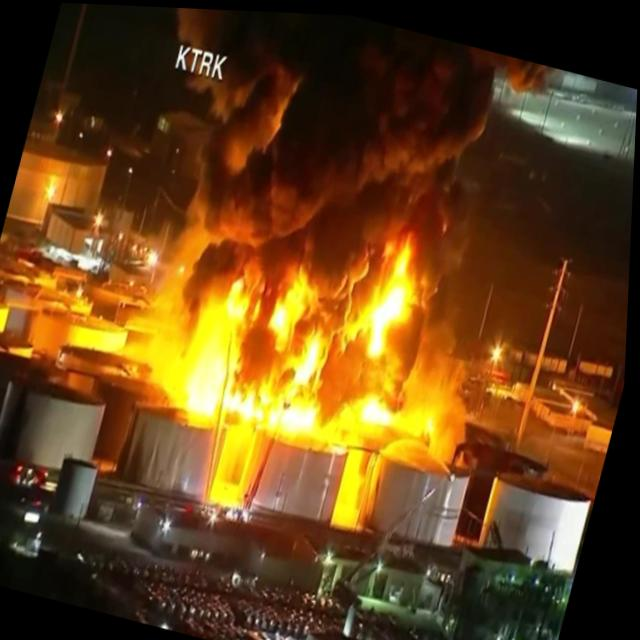fire: (145, 171, 500, 473)
